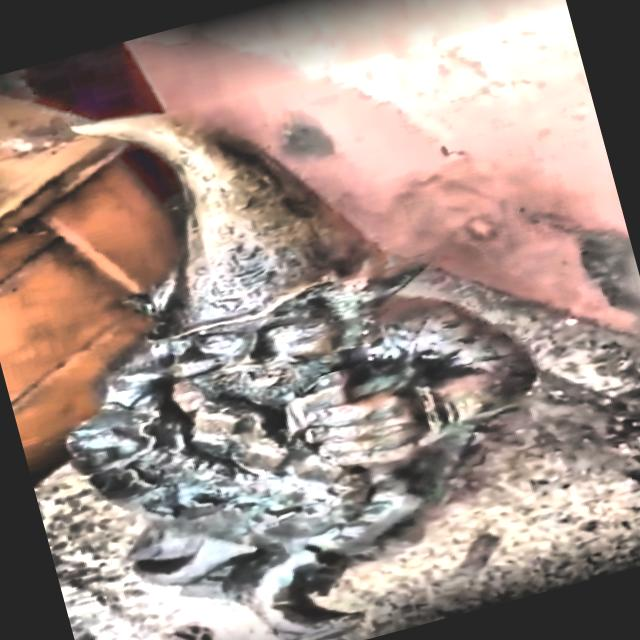Wedelek: (68, 114, 534, 637)
